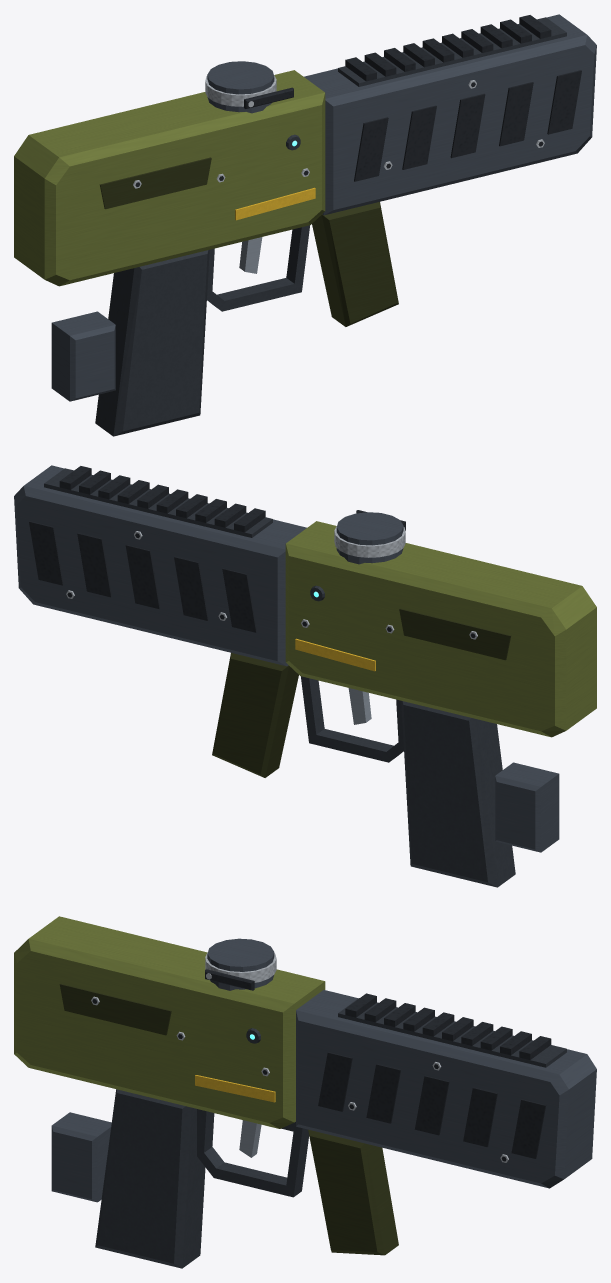
Rendered from bulldog_v2.glb.
3 views of the same model, one above another, from view 1: azimuth 30°, elevation 25°; view 2: azimuth 150°, elevation 25°; view 3: azimuth 330°, elevation 25° (orthographic).
Parts seen in each view (by area): view 1: body; view 2: body; view 3: body.
Part boxes in pixels (box(x1,y1,x2,y2)): body: box(14, 14, 596, 436); body: box(14, 465, 596, 887); body: box(14, 916, 596, 1268).
Bounding box in the file's own units: 0.458 × 0.254 × 0.0619.
11 materials, 10 textured.
